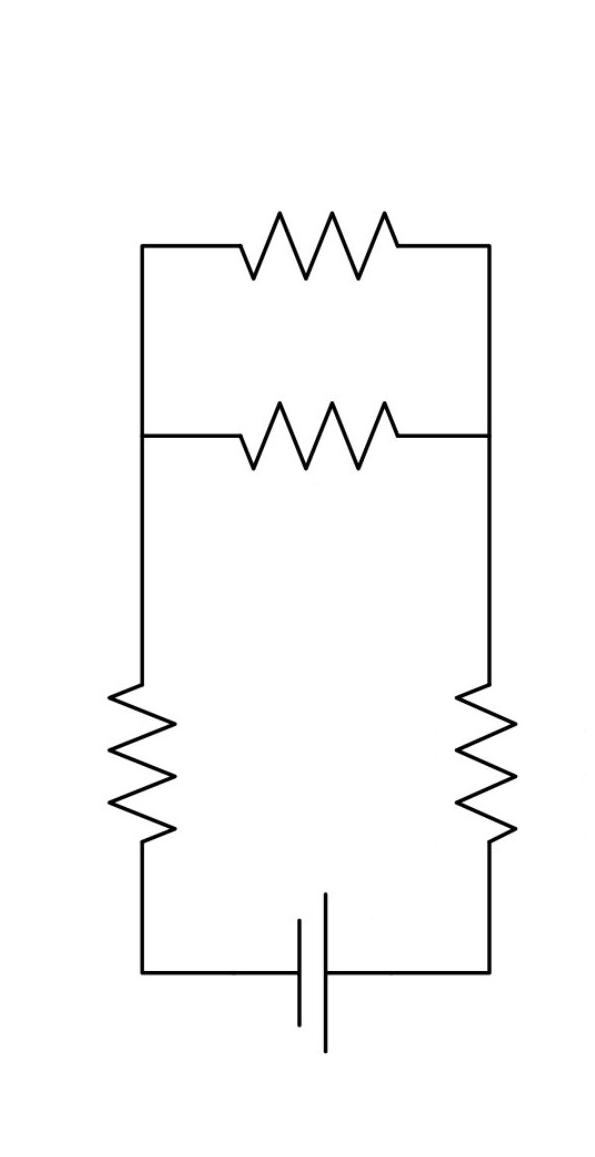resistor: (215, 172, 434, 326), (81, 639, 212, 892), (415, 648, 553, 886), (199, 379, 437, 495)
